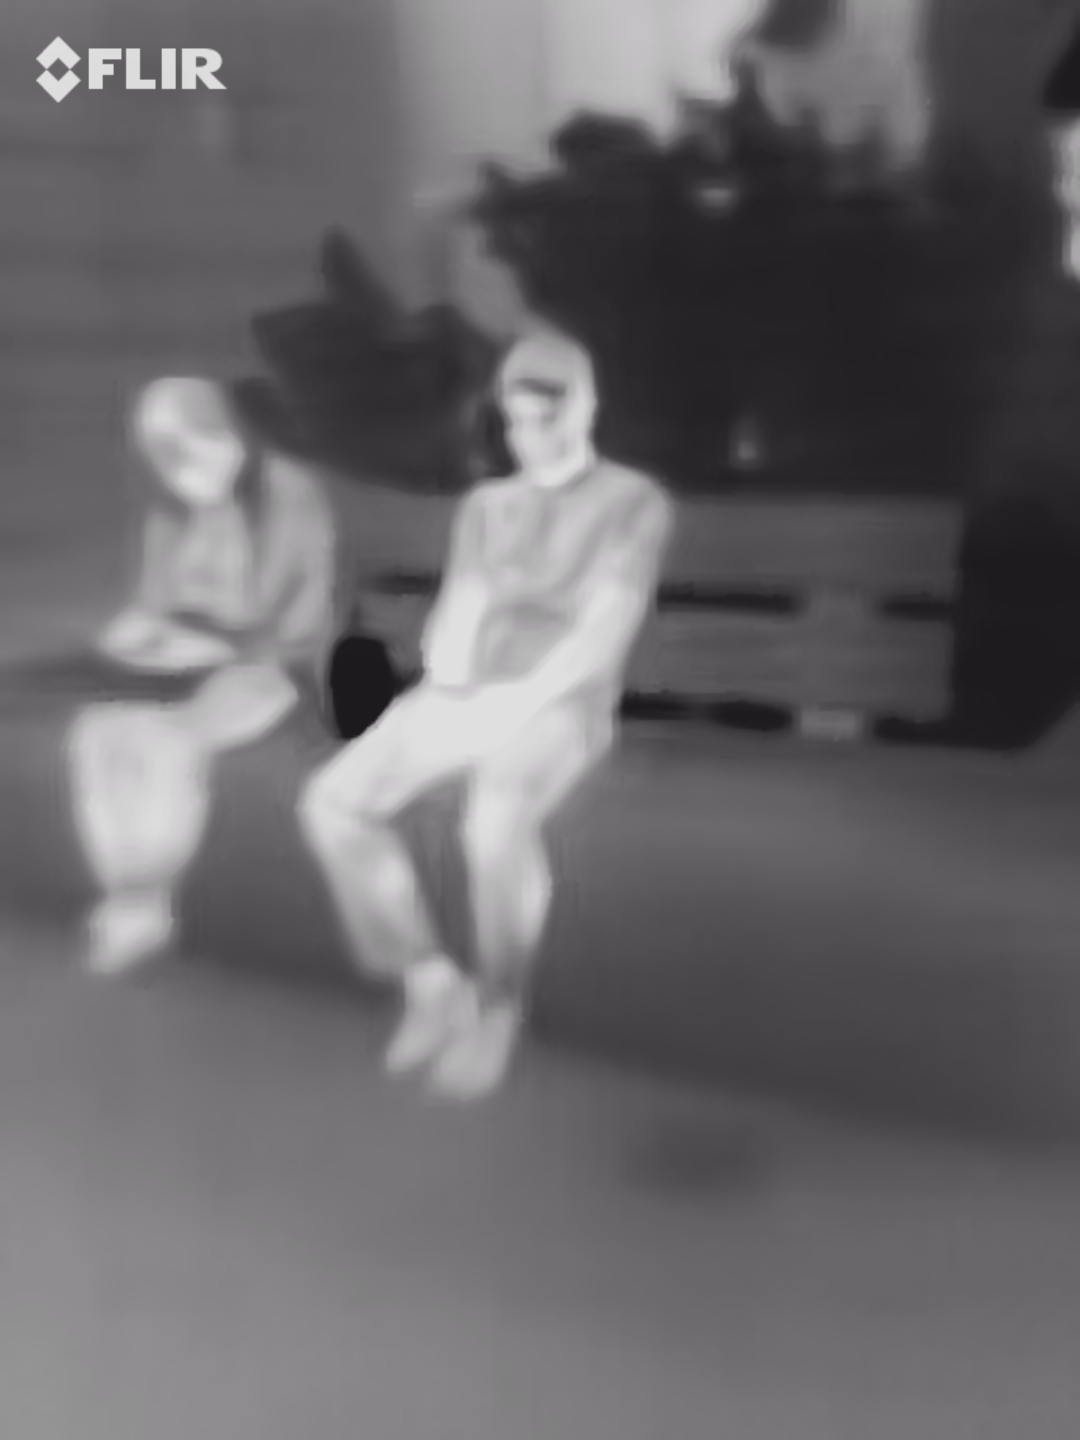head: (491, 331, 603, 489)
